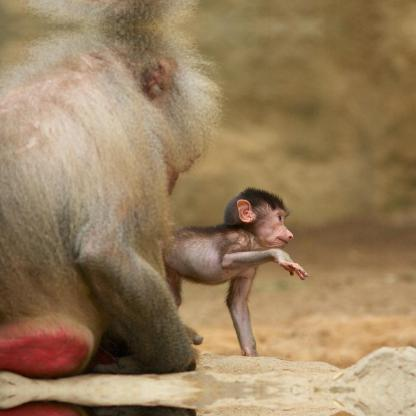Monkey: (0, 26, 232, 378), (161, 188, 314, 362)
